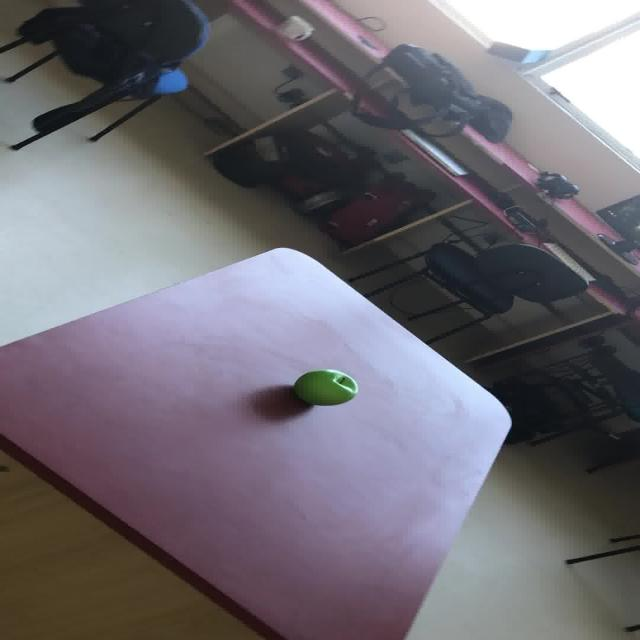apple: (292, 368, 358, 406)
